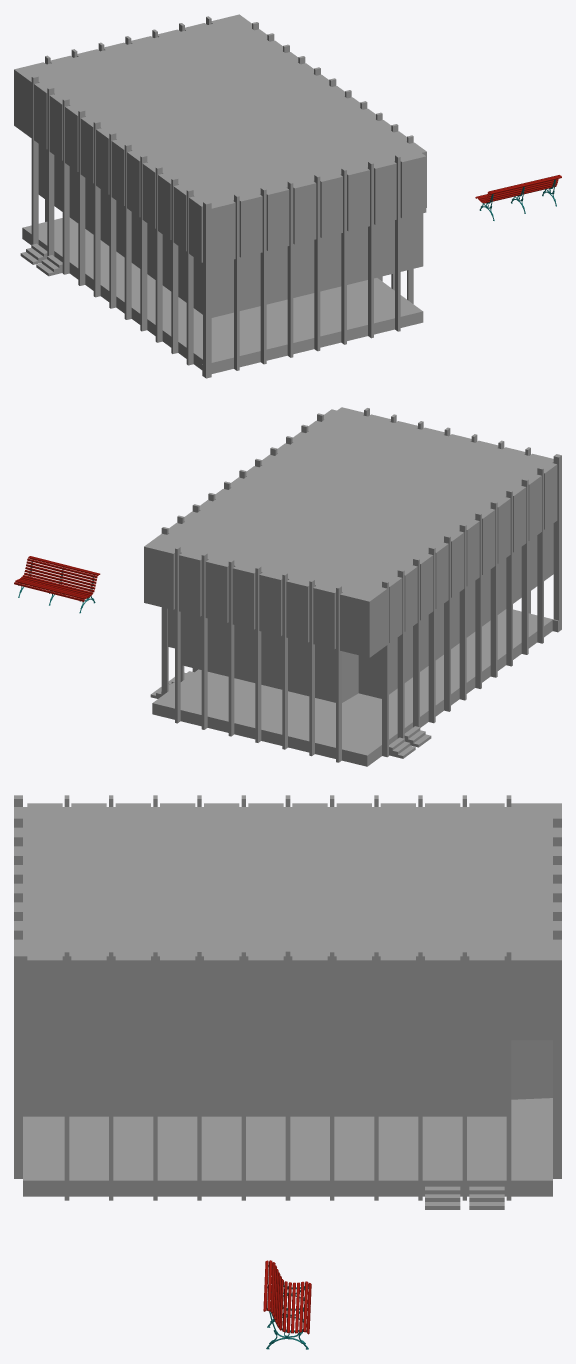
Rendered from final_steps_temp.obj.
The picture shows the model from 3 angles, top to bottom: view 1: azimuth 30°, elevation 25°; view 2: azimuth 150°, elevation 25°; view 3: azimuth 270°, elevation 25°; orthographic projection. The views are drawn at different scales.
Visible parts, largest first — view 1: Cube.001, Cube.001_Cube.003, mobUrbano1:polySurface2_mobUrbano1:banco6_pasted__group_group1_; view 2: Cube.001, Cube.001_Cube.003, mobUrbano1:polySurface2_mobUrbano1:banco6_pasted__group_group1_; view 3: Cube.001, Cube.001_Cube.003, mobUrbano1:polySurface2_mobUrbano1:banco6_pasted__group_group1_.
Boxes of the visible parts, left/top/right/bottom form: Cube.001: left=14, top=14, right=426, bottom=317; Cube.001_Cube.003: left=22, top=16, right=423, bottom=378; mobUrbano1:polySurface2_mobUrbano1:banco6_pasted__group_group1_: left=475, top=175, right=561, bottom=203; Cube.001: left=144, top=407, right=557, bottom=702; Cube.001_Cube.003: left=152, top=408, right=561, bottom=766; mobUrbano1:polySurface2_mobUrbano1:banco6_pasted__group_group1_: left=14, top=556, right=100, bottom=601; Cube.001: left=14, top=803, right=561, bottom=1116; Cube.001_Cube.003: left=14, top=795, right=561, bottom=1200; mobUrbano1:polySurface2_mobUrbano1:banco6_pasted__group_group1_: left=263, top=1260, right=311, bottom=1334.
Bounding box in the file's own units: 10 × 3.65 × 7.28.
